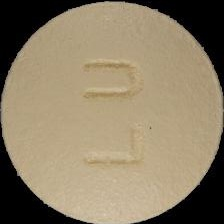21695-394: (0, 0, 224, 224)
